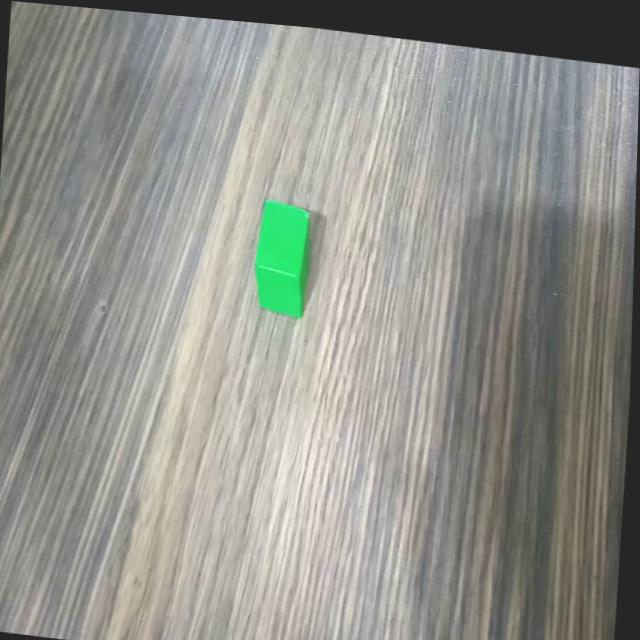cube: (250, 183, 316, 314)
